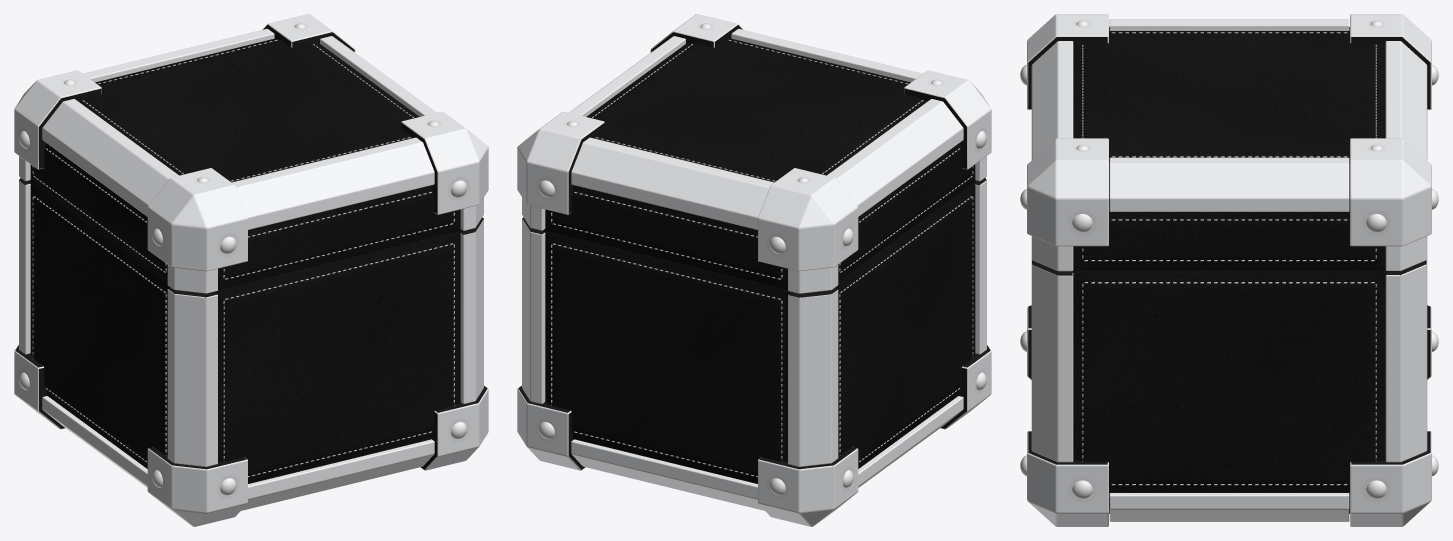
The model's file is cube_leather.glb.
3 views of the same model, side by side, from view 1: azimuth 30°, elevation 25°; view 2: azimuth 150°, elevation 25°; view 3: azimuth 270°, elevation 25° (orthographic). The views are drawn at different scales.
Parts seen in each view (by area): view 1: LeatherBody, LeatherTop, LeatherBody.003, LeatherLid, TopRail, BodyPost, CornerCap.001, TopRail.001, LeatherLid.003, CornerCap, CornerCap.005, BottomRail (+14 smaller); view 2: LeatherBody.002, LeatherTop, LeatherBody.003, LeatherLid.002, TopRail.002, BodyPost.001, CornerCap.003, TopRail.001, LeatherLid.003, CornerCap.002, CornerCap.007, BottomRail.002 (+14 smaller); view 3: LeatherBody.001, LeatherTop, LeatherLid.001, TopRail.003, BodyPost.002, BodyPost.003, CornerCap.005, CornerCap.007, BottomRail.003, CornerCap.004, CornerCap.006, TopRail (+9 smaller).
Boxes of the visible parts, box(x1,y1,x2,y2) form: LeatherBody: box(213, 230, 462, 483); LeatherTop: box(78, 38, 419, 182); LeatherBody.003: box(30, 181, 170, 468); LeatherLid: box(218, 185, 461, 289); TopRail: box(231, 137, 434, 229); BodyPost: box(167, 288, 217, 466); CornerCap.001: box(147, 168, 247, 271); TopRail.001: box(42, 99, 178, 216); LeatherLid.003: box(30, 143, 167, 281); CornerCap: box(147, 447, 247, 526); CornerCap.005: box(401, 111, 488, 214); BottomRail: box(241, 439, 434, 510); LeatherBody.002: box(543, 230, 792, 483); LeatherTop: box(586, 38, 927, 182); LeatherBody.003: box(835, 181, 975, 468); LeatherLid.002: box(543, 185, 787, 289); TopRail.002: box(571, 137, 774, 229); BodyPost.001: box(788, 288, 838, 466); CornerCap.003: box(758, 168, 858, 271); TopRail.001: box(827, 99, 963, 216); LeatherLid.003: box(838, 143, 975, 281); CornerCap.002: box(758, 447, 858, 526); CornerCap.007: box(517, 111, 604, 214); BottomRail.002: box(571, 439, 764, 510); LeatherBody.001: box(1070, 270, 1388, 492); LeatherTop: box(1073, 31, 1385, 162); LeatherLid.001: box(1073, 210, 1385, 270); TopRail.003: box(1109, 157, 1349, 211); BodyPost.002: box(1031, 259, 1073, 462); BodyPost.003: box(1385, 259, 1427, 462); CornerCap.005: box(1027, 138, 1108, 246); CornerCap.007: box(1350, 138, 1431, 246); BottomRail.003: box(1109, 493, 1349, 521); CornerCap.004: box(1027, 431, 1108, 526); CornerCap.006: box(1350, 431, 1431, 526); TopRail: box(1031, 41, 1073, 159).
Size of the model in its own units: 1.06 by 1.04 by 1.06.
Materials: 8 (1 with a texture image).
